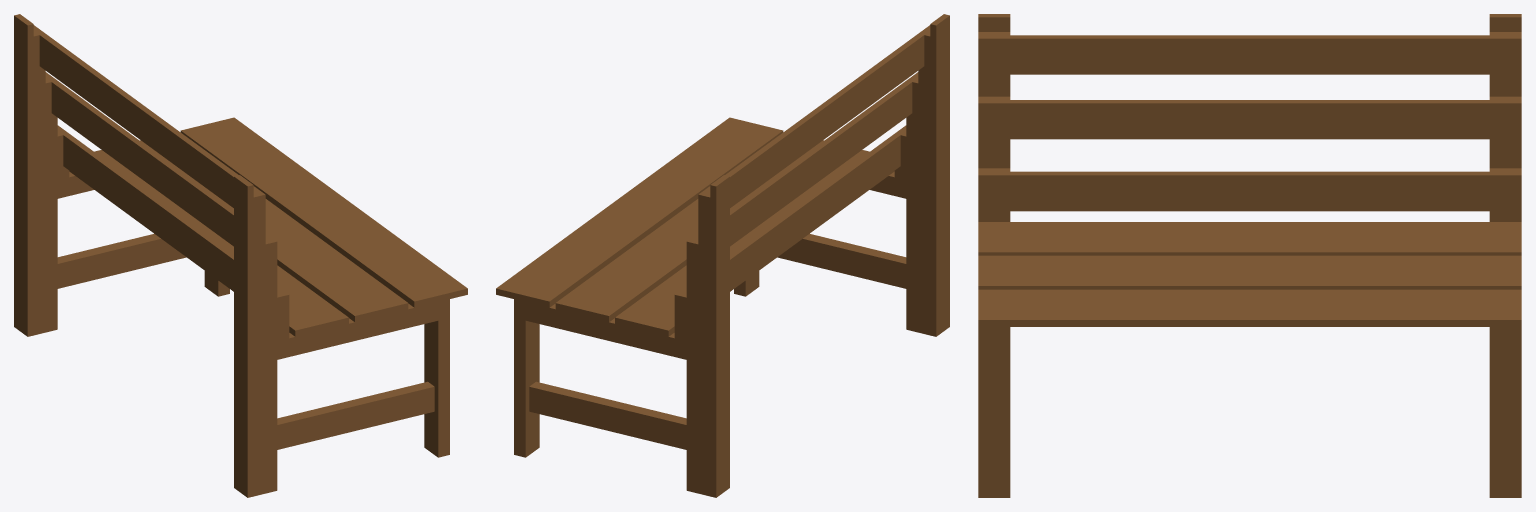
Rendered from bank.obj.
3 renders of one model, left to right at view 1: azimuth 30°, elevation 25°; view 2: azimuth 150°, elevation 25°; view 3: azimuth 270°, elevation 25°, orthographic. The views are drawn at different scales.
Visible parts, largest first — view 1: bank; view 2: bank; view 3: bank.
Part boxes in pixels (x1,y1,x2,y2): bank: (14, 14, 467, 497); bank: (496, 14, 949, 497); bank: (978, 14, 1521, 497).
Bounding box in the file's own units: 0.9425 × 1.3 × 1.73.
1 material, 1 textured.
